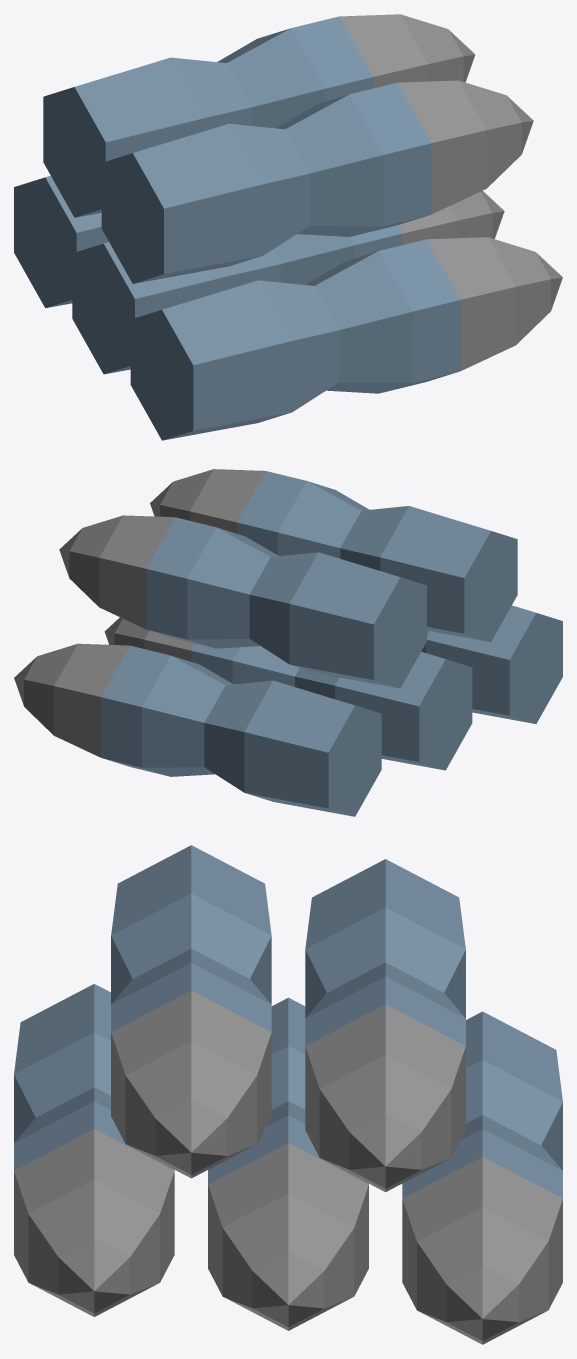
Rendered from item_shell_emp_c.obj.
The picture shows the model from 3 angles, top to bottom: view 1: azimuth 30°, elevation 25°; view 2: azimuth 150°, elevation 25°; view 3: azimuth 270°, elevation 25°; orthographic projection. The views are drawn at different scales.
Bounding box in the file's own units: 0.7224 × 0.4092 × 0.6492.
